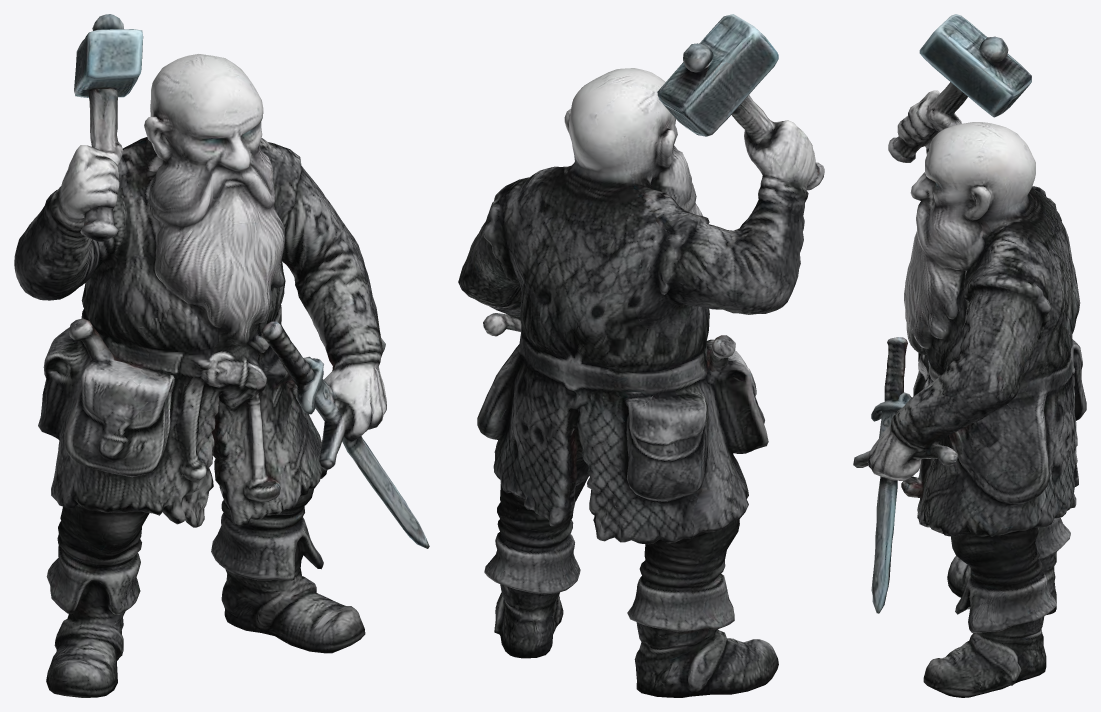
File: Dwarf_Hunter.glb
3 renders of one model, left to right at view 1: azimuth 30°, elevation 25°; view 2: azimuth 150°, elevation 25°; view 3: azimuth 270°, elevation 25°, orthographic. The views are drawn at different scales.
Size of the model in its own units: 1.04 by 1.91 by 0.7006.
Materials: 1 (1 with a texture image).
